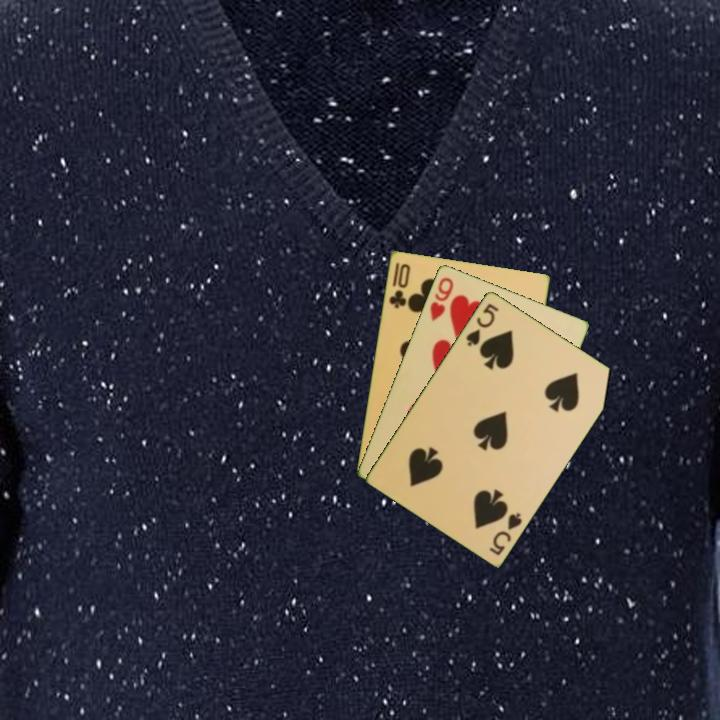10c: (385, 260, 413, 311)
5s: (462, 299, 501, 349), (486, 509, 525, 558)
9h: (426, 273, 456, 324)
